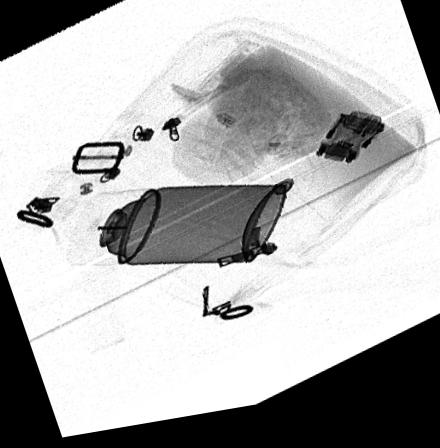Sprayer: (65, 192, 286, 272)
